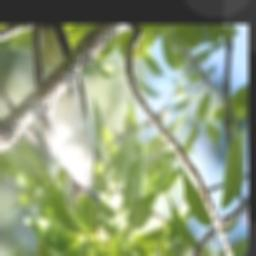Cuckoo: (33, 24, 102, 203)
